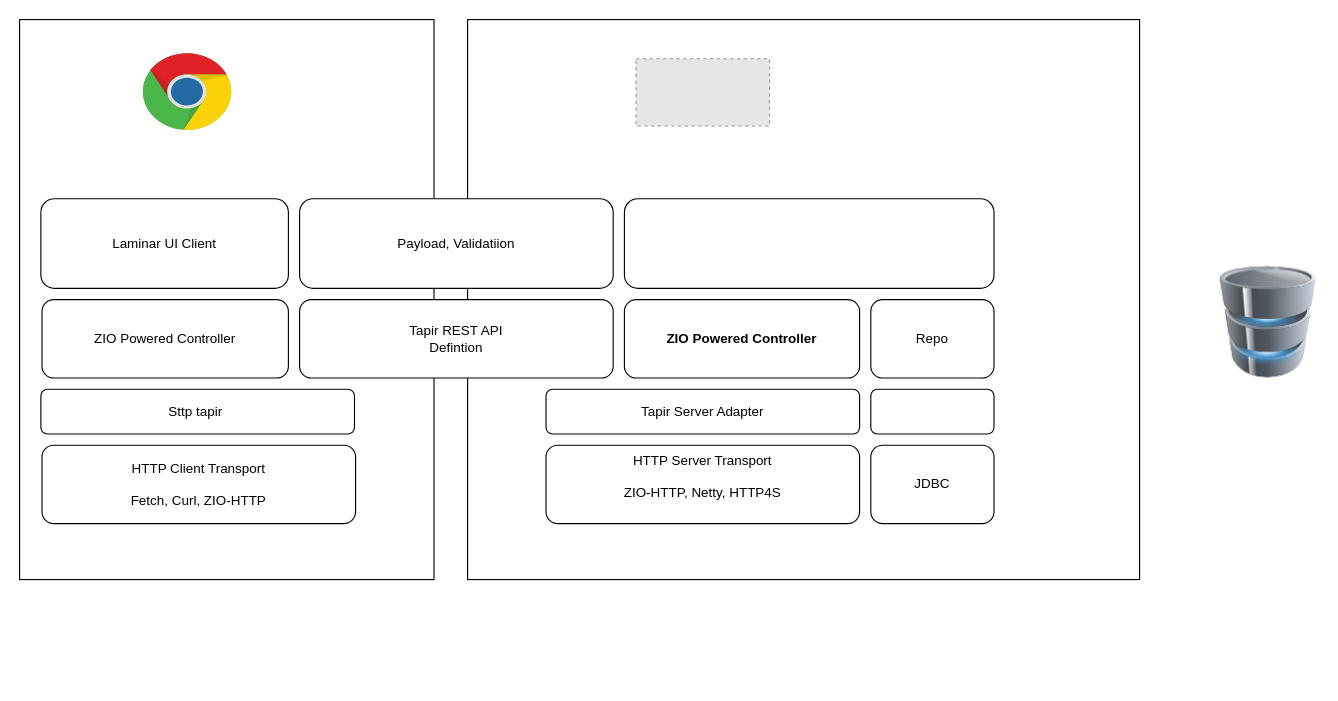
This 1338x701 diagram has some shape labels left out. Grey dashed boxes stand in for pictures. Each missing label, with the centre of its shape:
Business Logic: the point at 808,243
Quill: the point at 932,411
